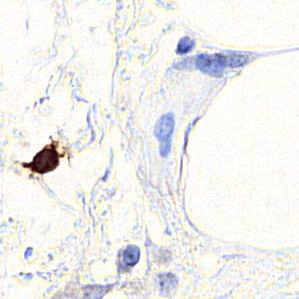Lymphocyte: (31, 146, 61, 174)
